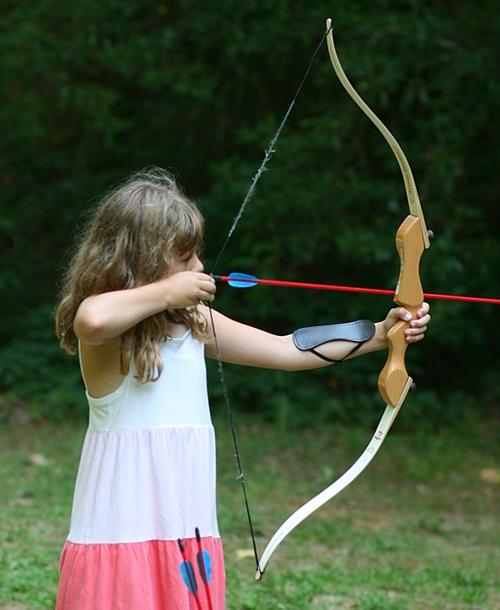person: (56, 174, 431, 607)
